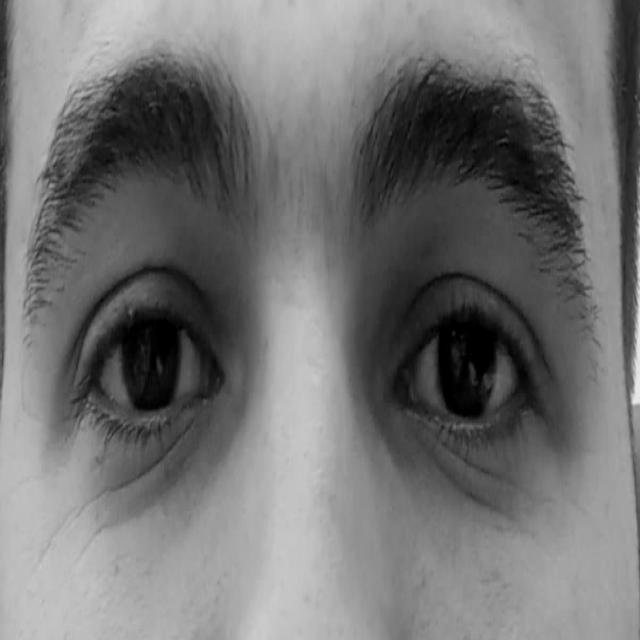real: (54, 106, 612, 562)
